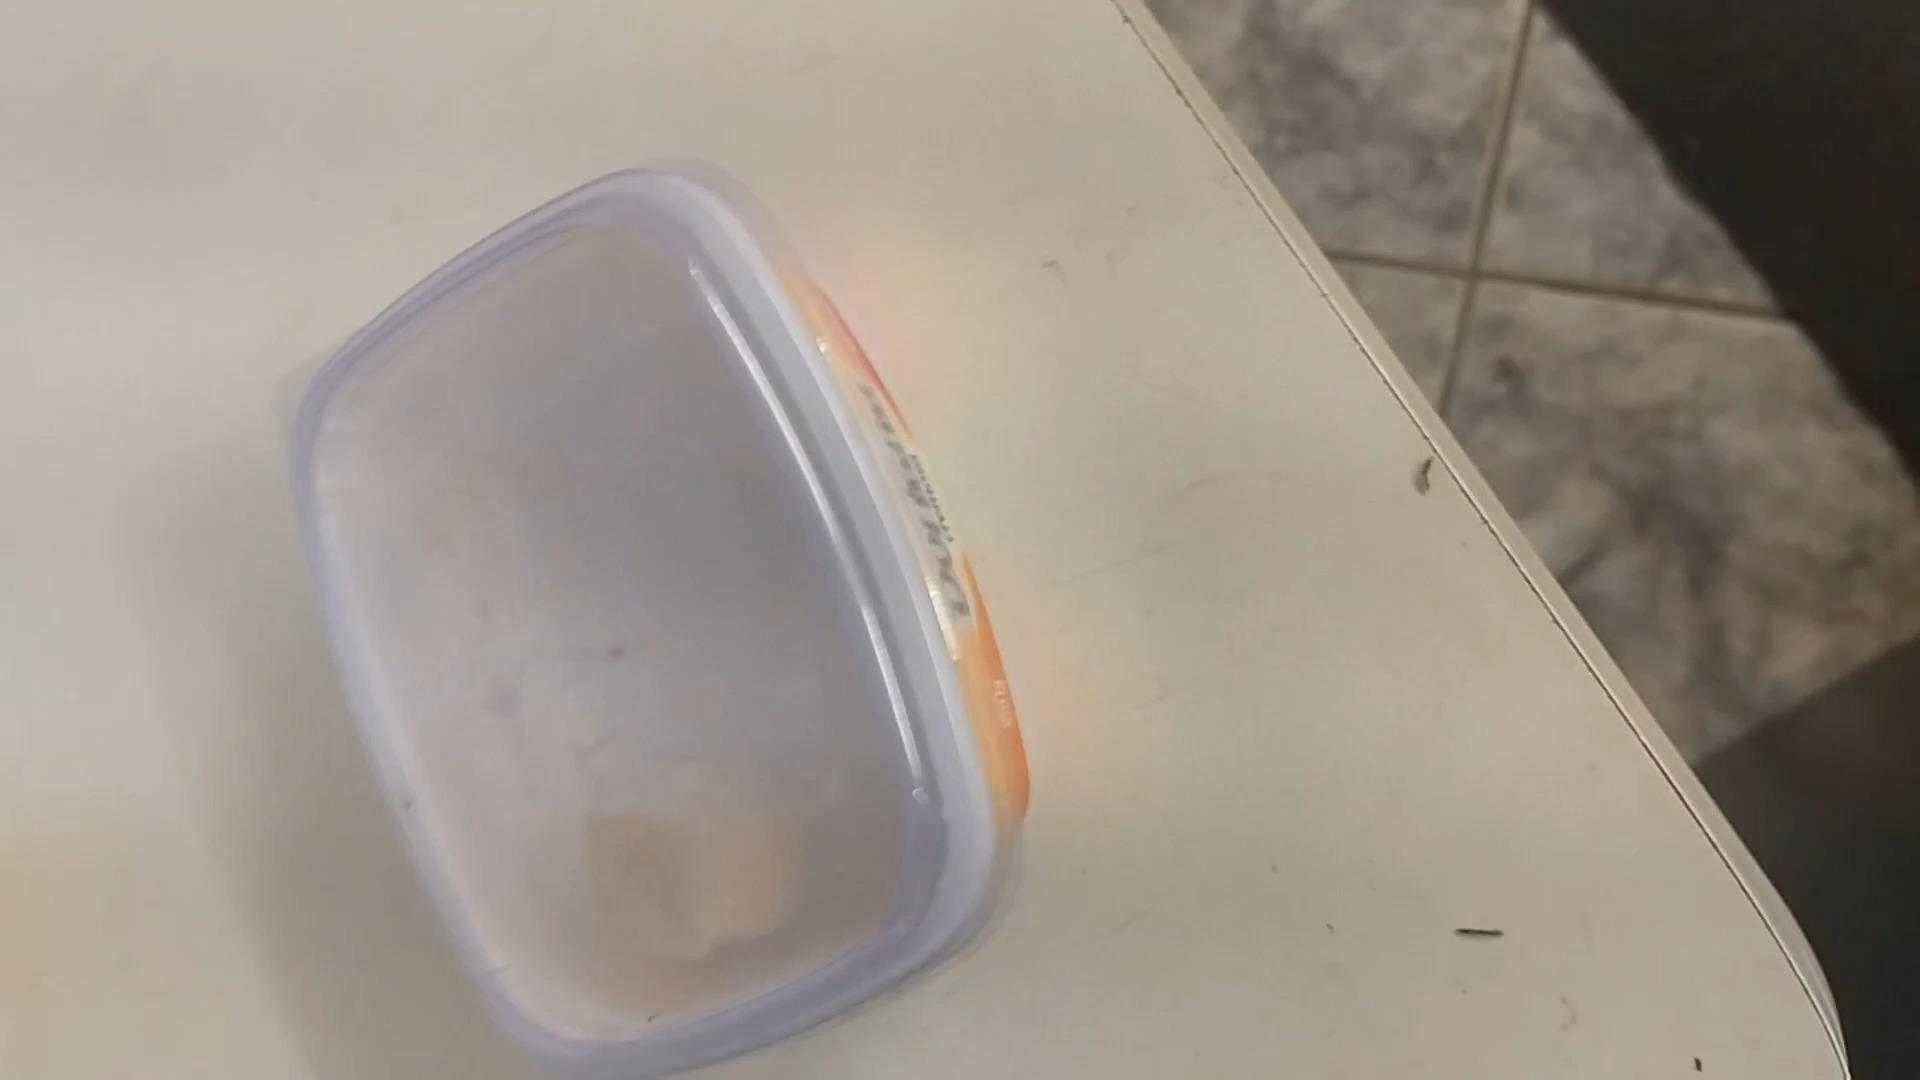butter: (287, 169, 1017, 1073)
